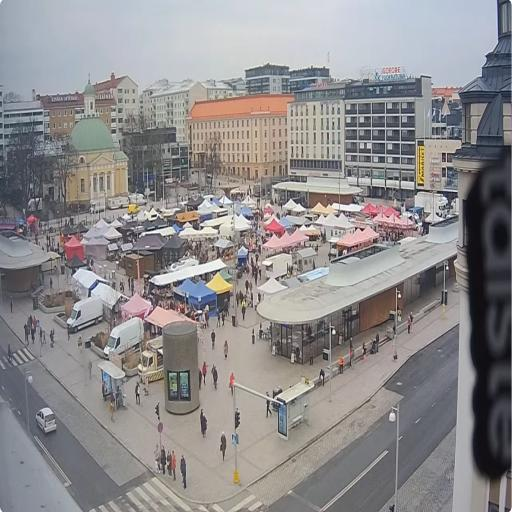Car: (36, 407, 56, 434)
Delivery: (104, 318, 143, 359), (67, 297, 103, 332), (138, 336, 163, 381)
